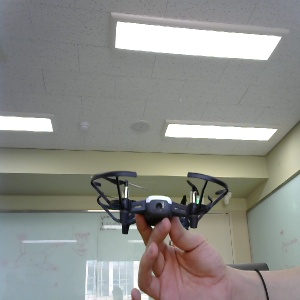Drone: (90, 168, 231, 256)
